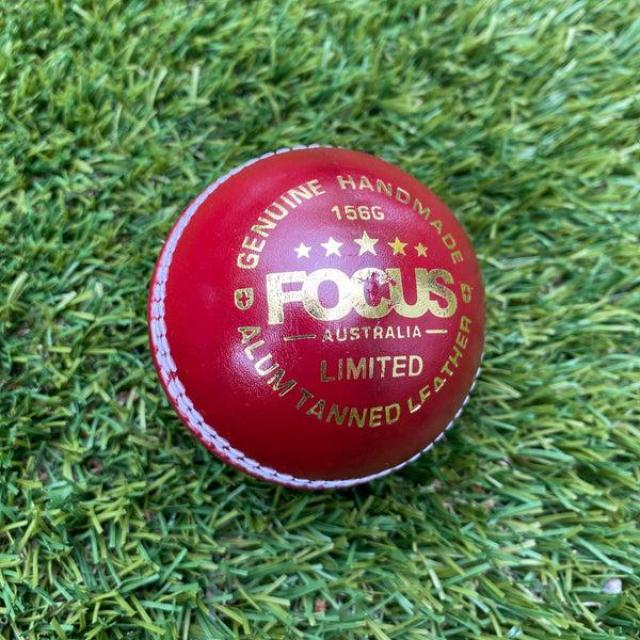ball: (146, 144, 490, 494)
